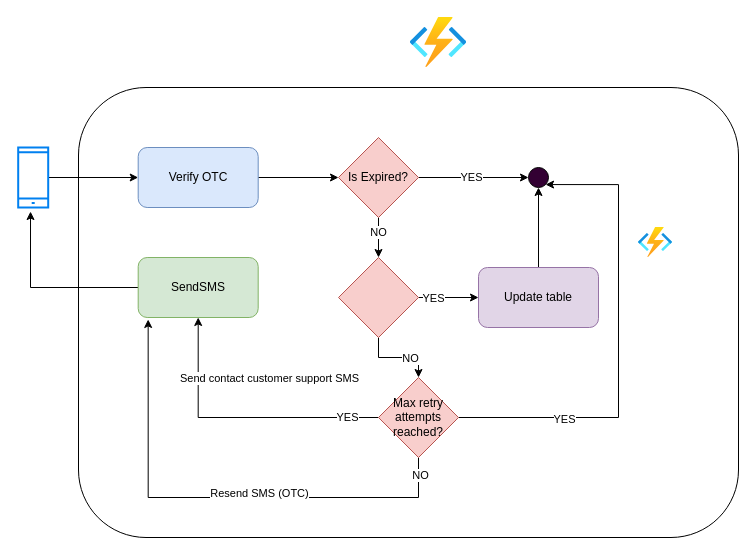
Image size: 756x555. Some labels were removed from this diagram. The centre of each missing label's shape, as x and y in pixels:
"Is matching?" belongs at point 378,297.
"SmsOtcOrchestrator" belongs at point 438,42.
